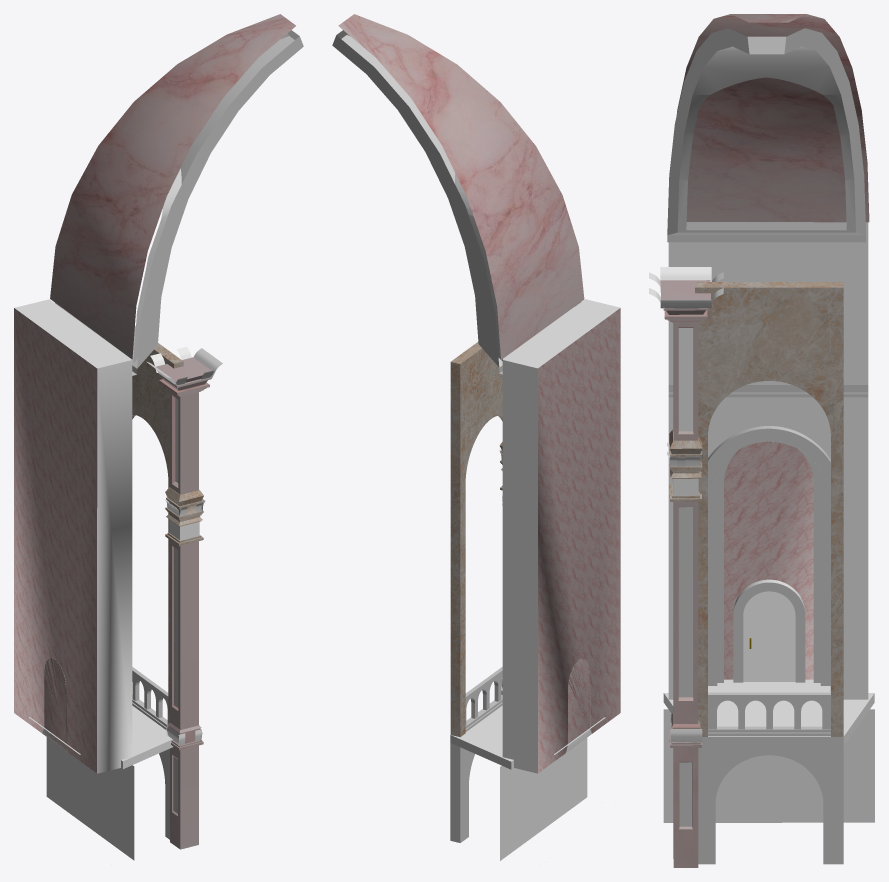
The model's file is Untitled — kopiapróbaswiatla.fbx.
3 renders of one model, left to right at view 1: azimuth 30°, elevation 25°; view 2: azimuth 150°, elevation 25°; view 3: azimuth 270°, elevation 25°, orthographic. The views are drawn at different scales.
Parts seen in each view (by area): view 1: ŚcianyZewnętrzne.007, Kopuła1.008, Curve.002, Kopuła1.007, ŚcianyZewnętrzne.001, Cube.004, Cube.003, Cube, Curve.003; view 2: ŚcianyZewnętrzne.007, Kopuła1.008, Cube.004, Kopuła1.007, ŚcianyZewnętrzne.001, Cube.001, Cube.003, Cube; view 3: ŚcianyZewnętrzne.007, Kopuła1.008, Cube.004, Kopuła1.007, ŚcianyZewnętrzne.001, Curve.002, Cube.001, Cube.003, Cube.010, Cube.039, Cube.035, Curve.003 (+8 smaller).
Boxes of the visible parts, x1,y1,x2,y2 form: ŚcianyZewnętrzne.007: (14, 299, 132, 773); Kopuła1.008: (50, 14, 295, 359); Curve.002: (156, 357, 213, 849); Kopuła1.007: (55, 30, 303, 375); ŚcianyZewnętrzne.001: (46, 737, 134, 860); Cube.004: (132, 326, 183, 723); Cube.003: (29, 705, 173, 768); Cube: (132, 667, 168, 723); Curve.003: (174, 547, 178, 707); ŚcianyZewnętrzne.007: (502, 299, 620, 773); Kopuła1.008: (338, 14, 584, 359); Cube.004: (450, 342, 502, 737); Kopuła1.007: (332, 30, 580, 374); ŚcianyZewnętrzne.001: (500, 738, 587, 860); Cube.001: (450, 743, 474, 842); Cube.003: (450, 705, 605, 769); Cube: (465, 667, 502, 725); ŚcianyZewnętrzne.007: (668, 222, 868, 699); Kopuła1.008: (676, 14, 869, 222); Cube.004: (695, 282, 843, 736); Kopuła1.007: (667, 28, 865, 242); ŚcianyZewnętrzne.001: (663, 709, 874, 822); Curve.002: (660, 280, 710, 867); Cube.001: (698, 746, 843, 864); Cube.003: (663, 679, 874, 745); Cube.010: (743, 591, 795, 681); Cube.039: (708, 462, 830, 685); Cube.035: (717, 449, 820, 682); Curve.003: (678, 507, 693, 697).
Bounding box in the file's own units: 8.57 × 25.92 × 5.76.
